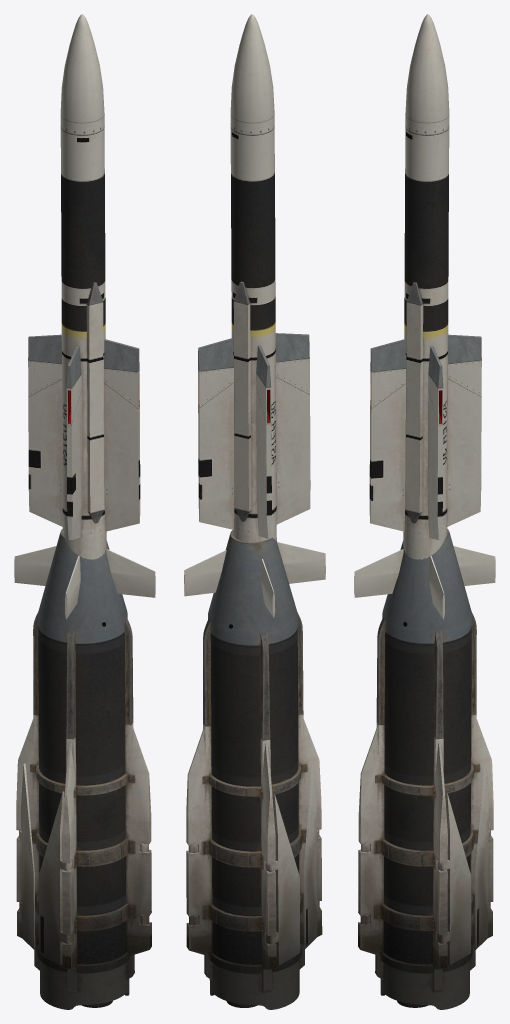
The model's file is aster30.glb.
3 views of the same model, side by side, from view 1: azimuth 30°, elevation 25°; view 2: azimuth 150°, elevation 25°; view 3: azimuth 330°, elevation 25° (orthographic).
Parts seen in each view (by area): view 1: aster30booster, aster30body; view 2: aster30booster, aster30body; view 3: aster30booster, aster30body.
Boxes of the visible parts, x1,y1,x2,y2 form: aster30booster: (16,529,151,1009); aster30body: (14,14,155,619); aster30booster: (186,530,322,1009); aster30body: (184,14,325,617); aster30booster: (358,529,493,1009); aster30body: (354,14,495,619).
Size of the model in its own units: 0.4657 by 4.53 by 0.4462.
Materials: 1 (1 with a texture image).
